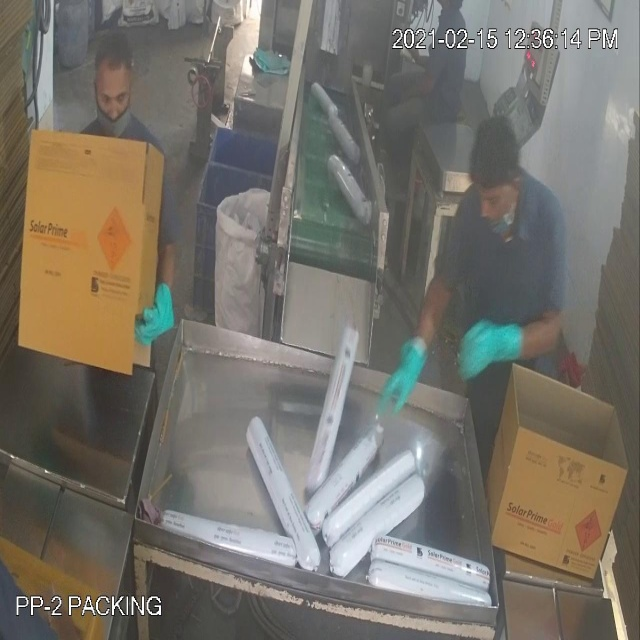Guantes: (448, 302, 547, 401), (376, 320, 439, 429), (124, 262, 186, 356)
